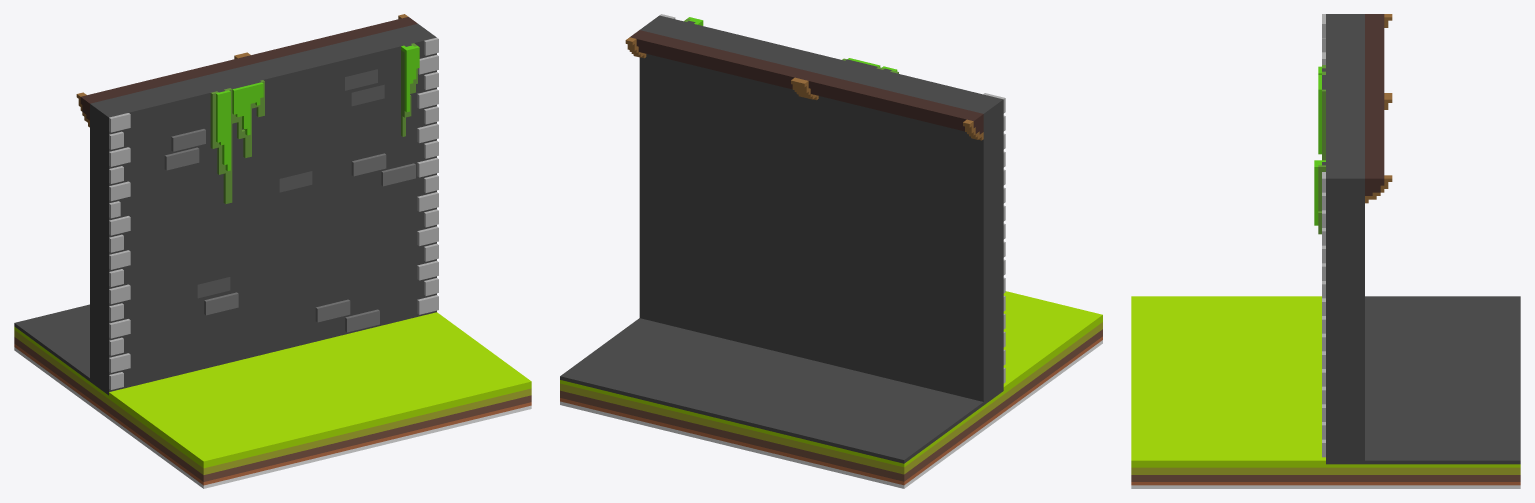
File: House-7-House Wall Plants.obj
3 renders of one model, left to right at view 1: azimuth 30°, elevation 25°; view 2: azimuth 150°, elevation 25°; view 3: azimuth 270°, elevation 25°, orthographic. The views are drawn at different scales.
Visible parts, largest first — view 1: House Wall Plants; view 2: House Wall Plants; view 3: House Wall Plants.
Part boxes in pixels (x1,y1,x2,y2): House Wall Plants: (14,14,531,488); House Wall Plants: (560,14,1102,488); House Wall Plants: (1131,14,1520,488).
Size of the model in its own units: 10 by 8.8 by 10.
Materials: 1 (1 with a texture image).
